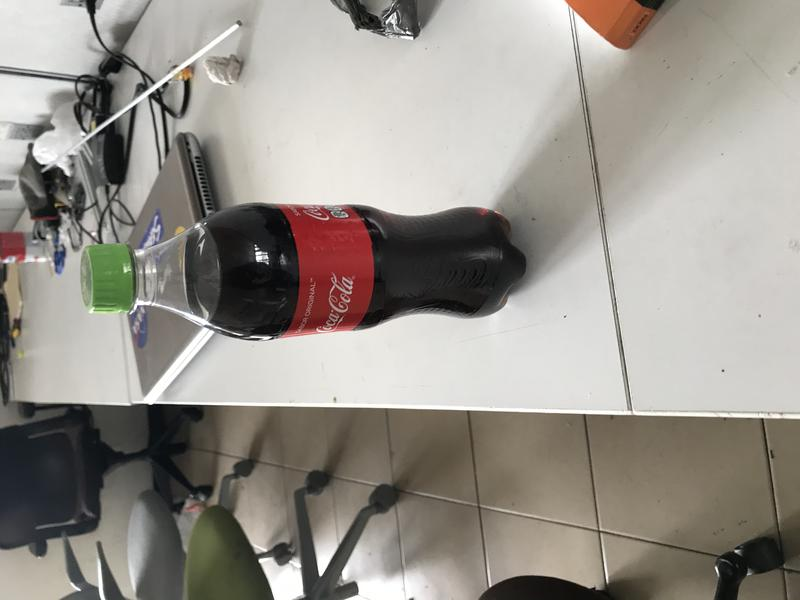coca_cola: (81, 203, 529, 342)
